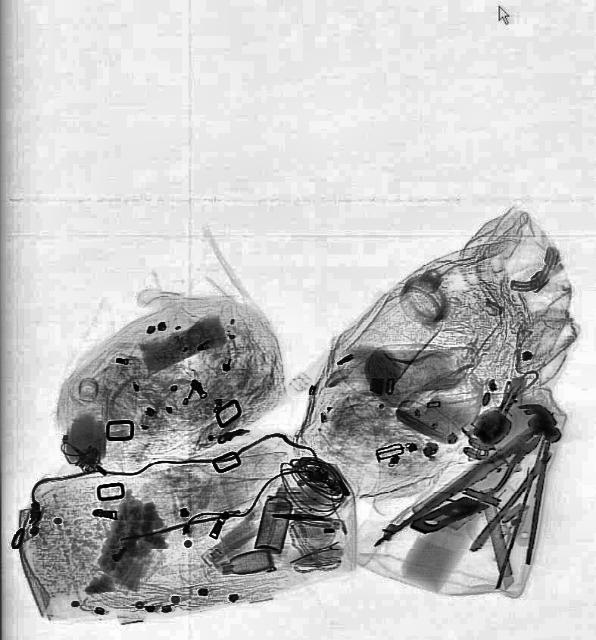Pliers: (452, 417, 550, 509)
